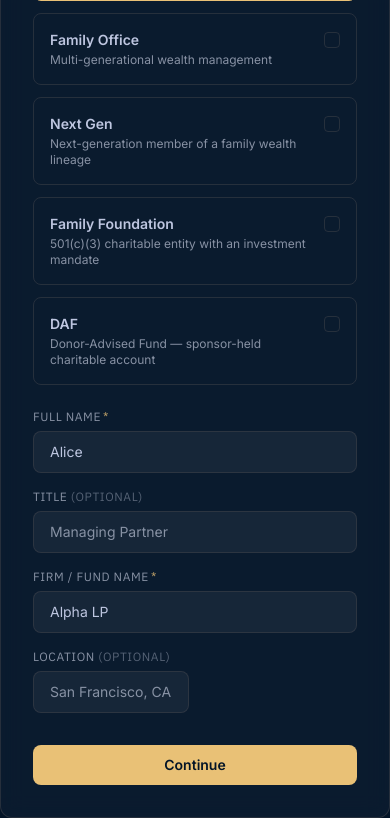
it: <OnboardingForm /> — submit payload shape › surfaces server-side error and re-enables save
(page scrolled)
Step 1. Click the button "Continue" → (195, 765), box [33,745,357,785]
(page scrolled)
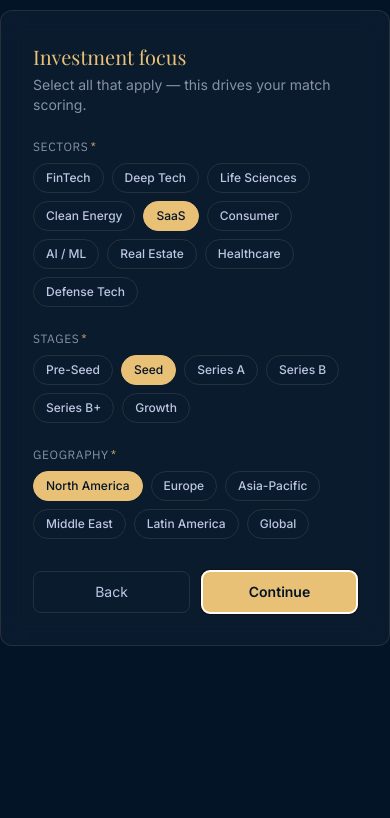
Step 2. Click the button "Continue" → (280, 592), box [202,571,357,613]
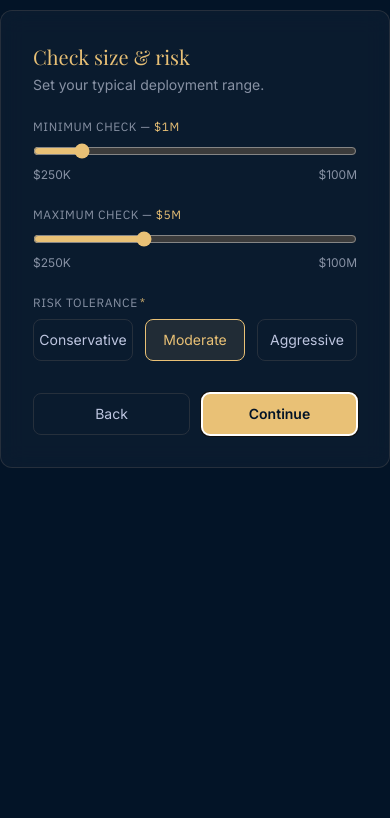
Step 3. Click the button "Continue" → (280, 414), box [202,393,357,435]
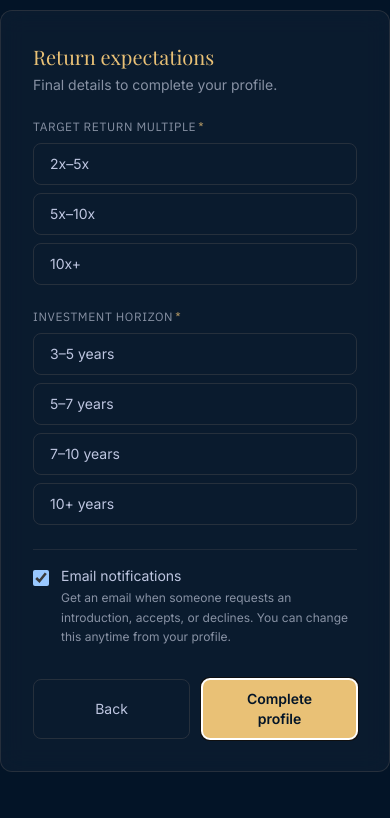
Step 4. Click the button "Complete profile" → (280, 708), box [202,678,357,738]
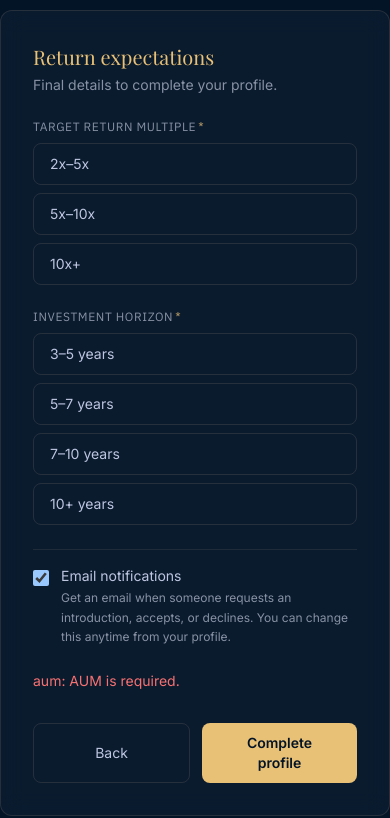
Expected: the text "aum: AUM is required." is shown, [33,672,180,688]
